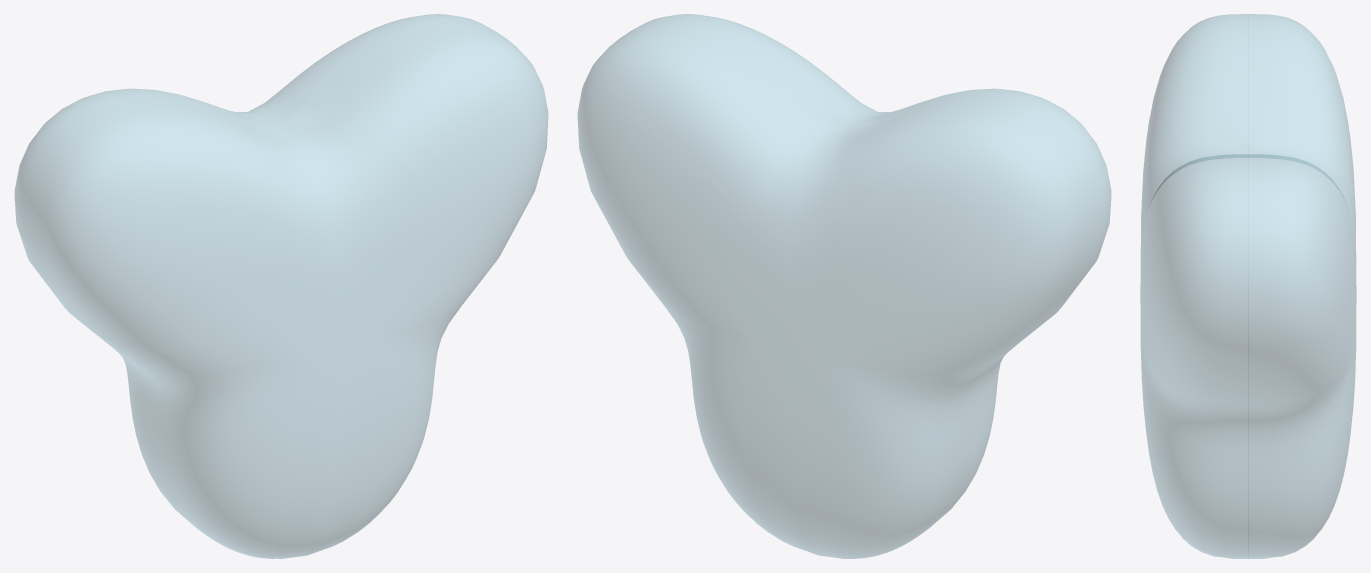
The picture shows the model from 3 angles, left to right: view 1: azimuth 30°, elevation 25°; view 2: azimuth 150°, elevation 25°; view 3: azimuth 270°, elevation 25°; orthographic projection. The views are drawn at different scales.
Parts seen in each view (by area): view 1: gel-body; view 2: gel-body; view 3: gel-body.
Boxes of the visible parts, <box> form: gel-body: <box>14,14,548,558</box>; gel-body: <box>577,14,1111,558</box>; gel-body: <box>1140,14,1356,558</box>.
Bounding box in the file's own units: 1.8 × 1.65 × 0.72.
